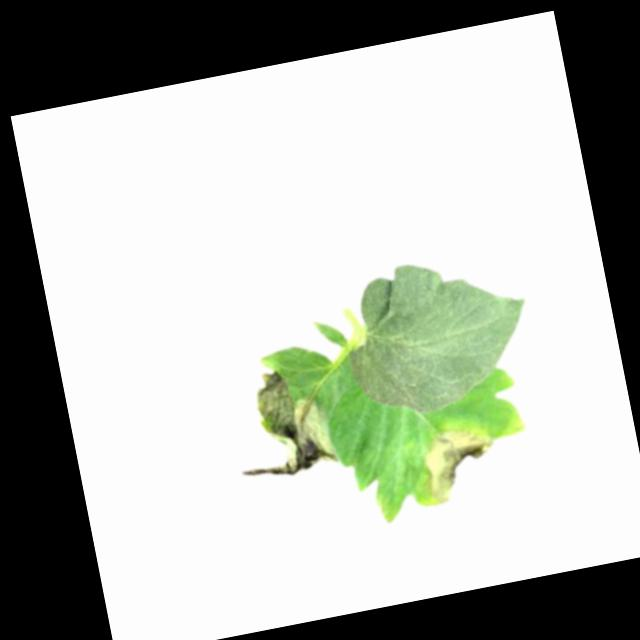Late_blight: (221, 358, 340, 486), (413, 419, 504, 508)
healthy: (330, 241, 544, 426)
